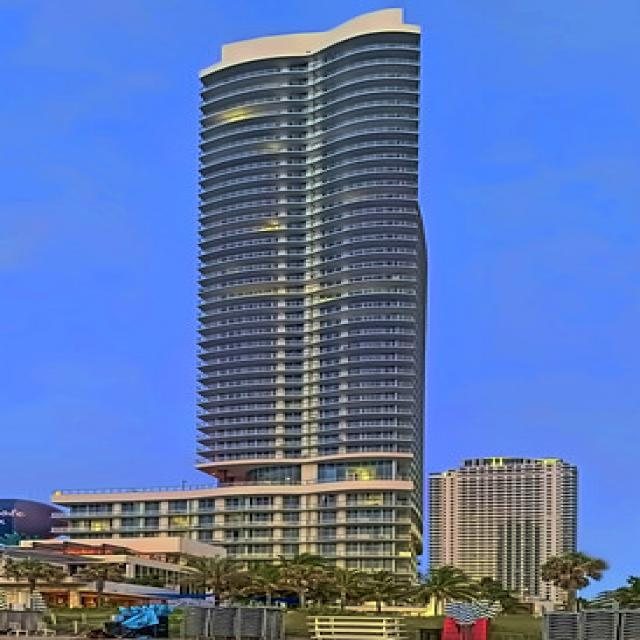Normal_building: (185, 5, 428, 582), (433, 452, 583, 610)
